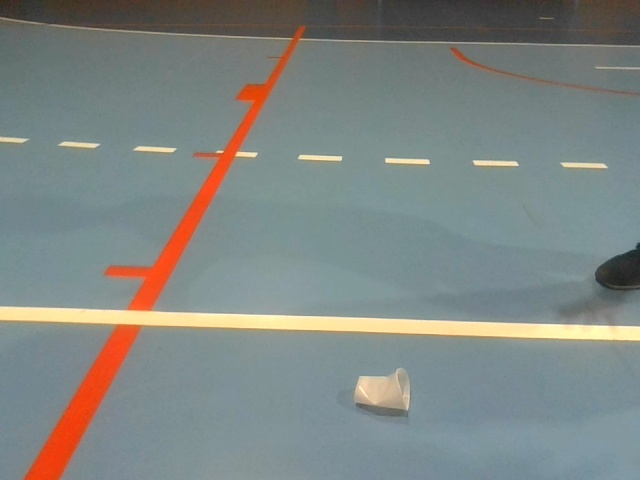plasticcup: (353, 366, 412, 413)
